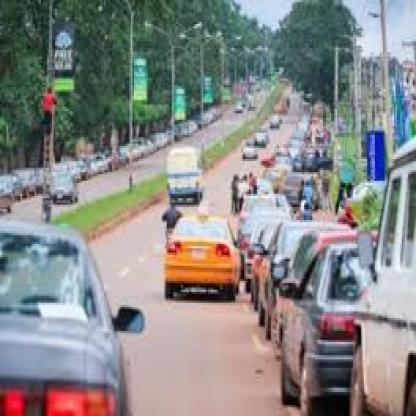car: (0, 217, 156, 416), (334, 99, 416, 416), (280, 212, 371, 416), (160, 208, 250, 310), (152, 137, 214, 210), (48, 168, 86, 212), (240, 142, 258, 164)
